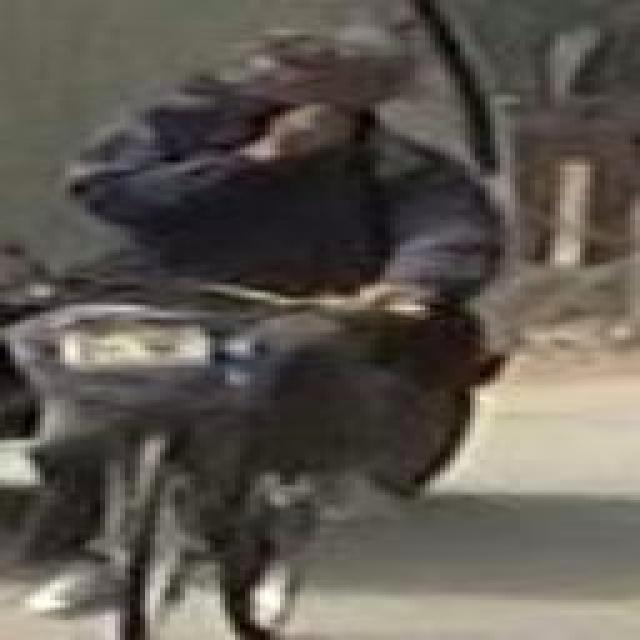adult: (0, 32, 480, 570)
